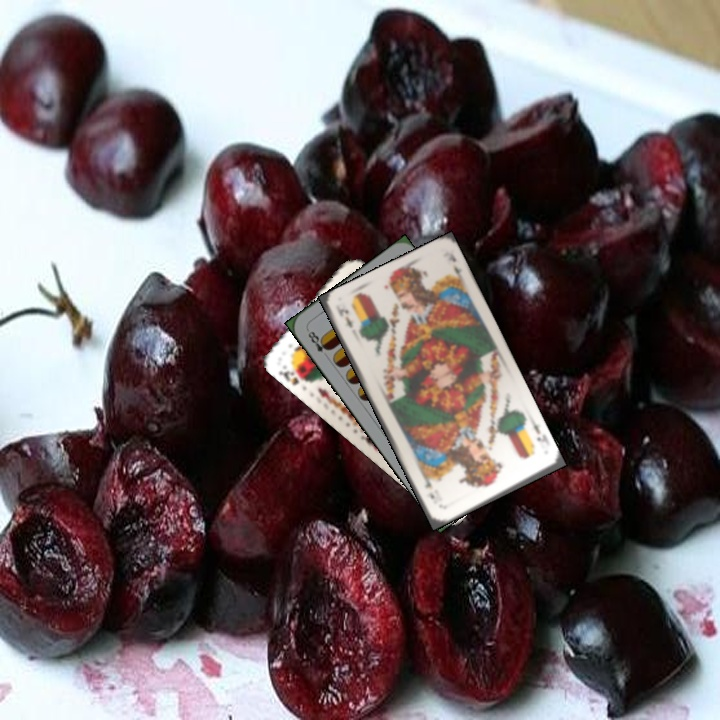E8: (303, 325, 333, 361)
EK: (527, 418, 551, 448), (334, 303, 356, 330)
SK: (275, 360, 312, 388)
